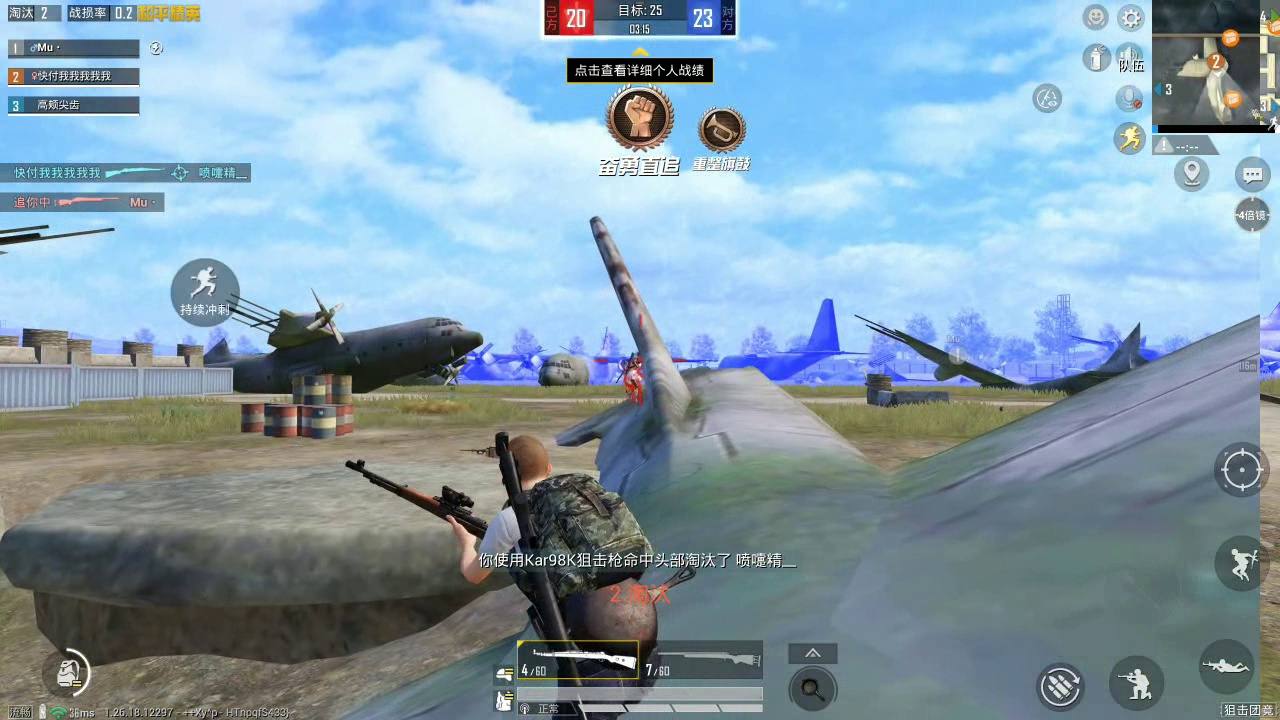enemy: (619, 349, 644, 407)
